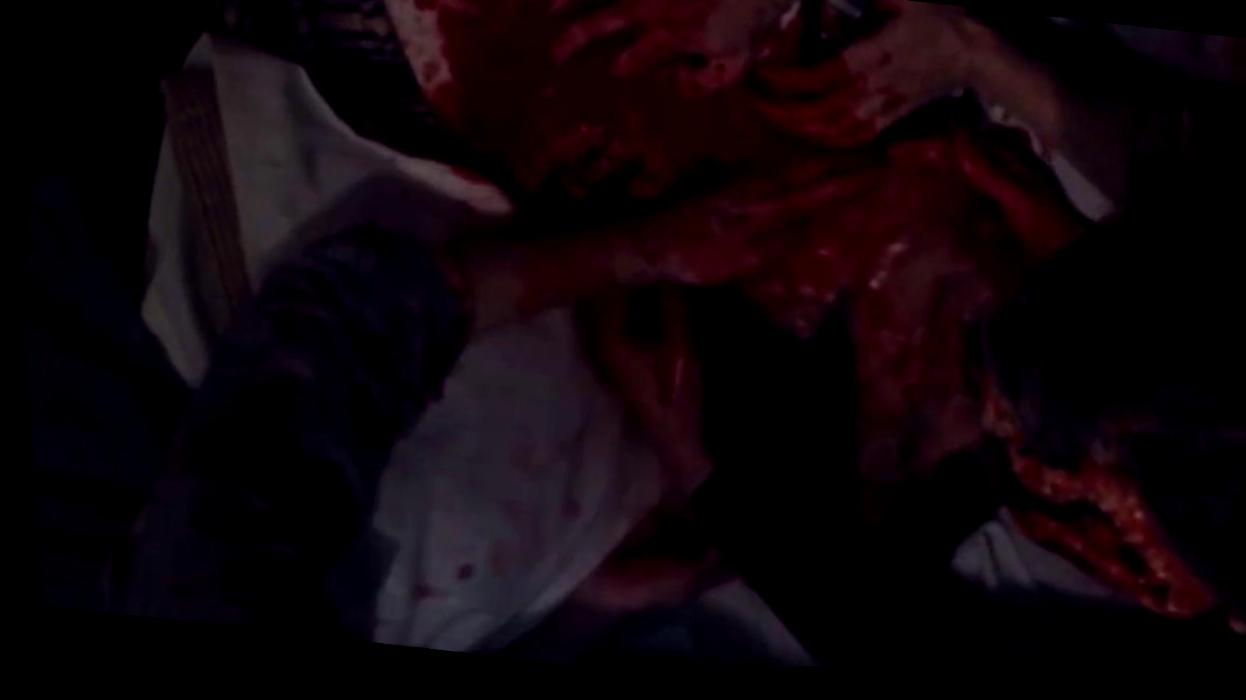Fire: (384, 0, 1204, 629)
